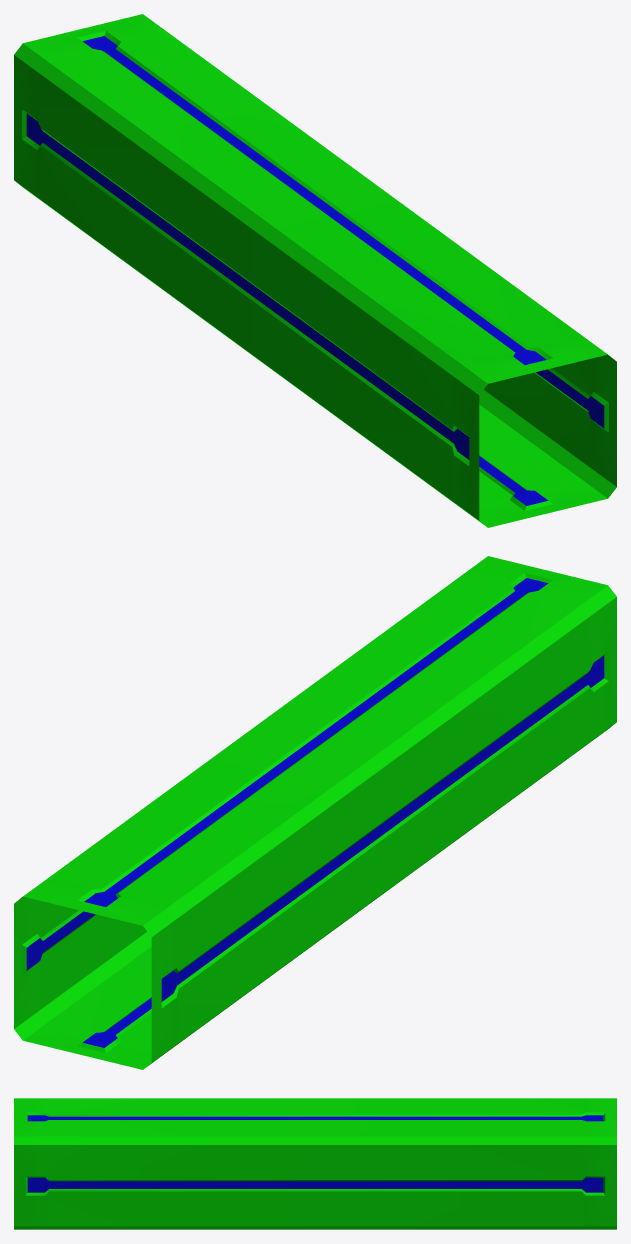
File: MePlaintePilier_V2.FBX
3 renders of one model, top to bottom at view 1: azimuth 30°, elevation 25°; view 2: azimuth 150°, elevation 25°; view 3: azimuth 270°, elevation 25°, orthographic. The views are drawn at different scales.
Parts seen in each view (by area): view 1: PilierCorps; view 2: PilierCorps; view 3: PilierCorps.
Part boxes in pixels (x1,y1,x2,y2): PilierCorps: [14, 14, 616, 527]; PilierCorps: [14, 556, 616, 1069]; PilierCorps: [14, 1098, 616, 1229].
Size of the model in its own units: 51.91 by 300 by 51.91.
